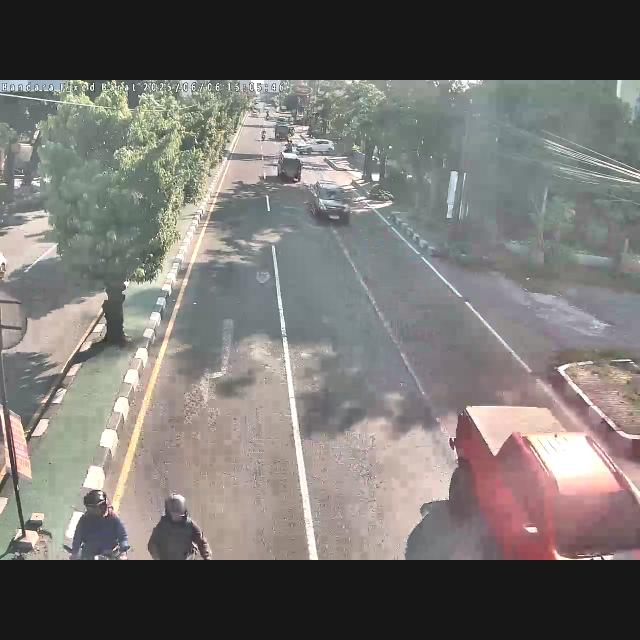Mobil: (306, 178, 352, 226), (276, 152, 304, 184), (296, 138, 336, 156)
Motor: (56, 484, 132, 560), (142, 488, 212, 560)
Truk: (450, 392, 640, 560)
